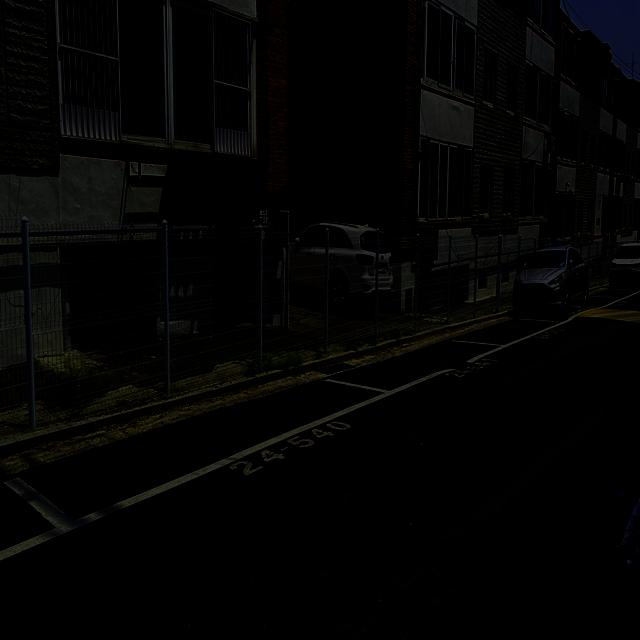empty: (2, 375, 400, 535), (317, 334, 514, 401)
